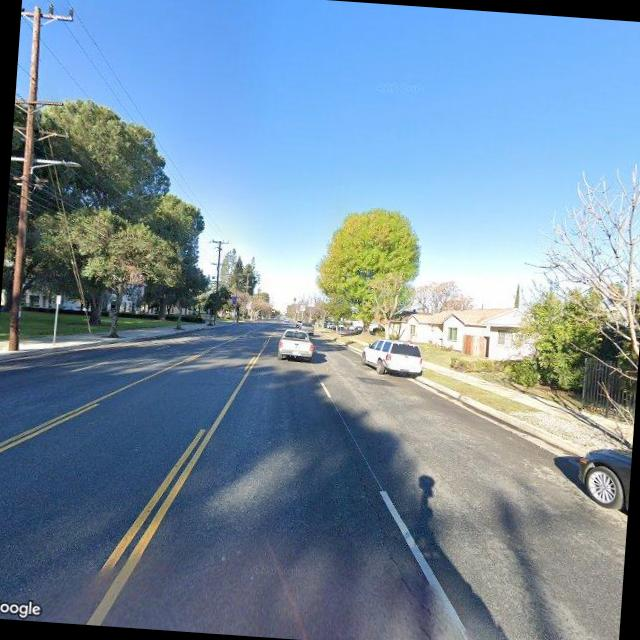pothole: (322, 426, 453, 638)
